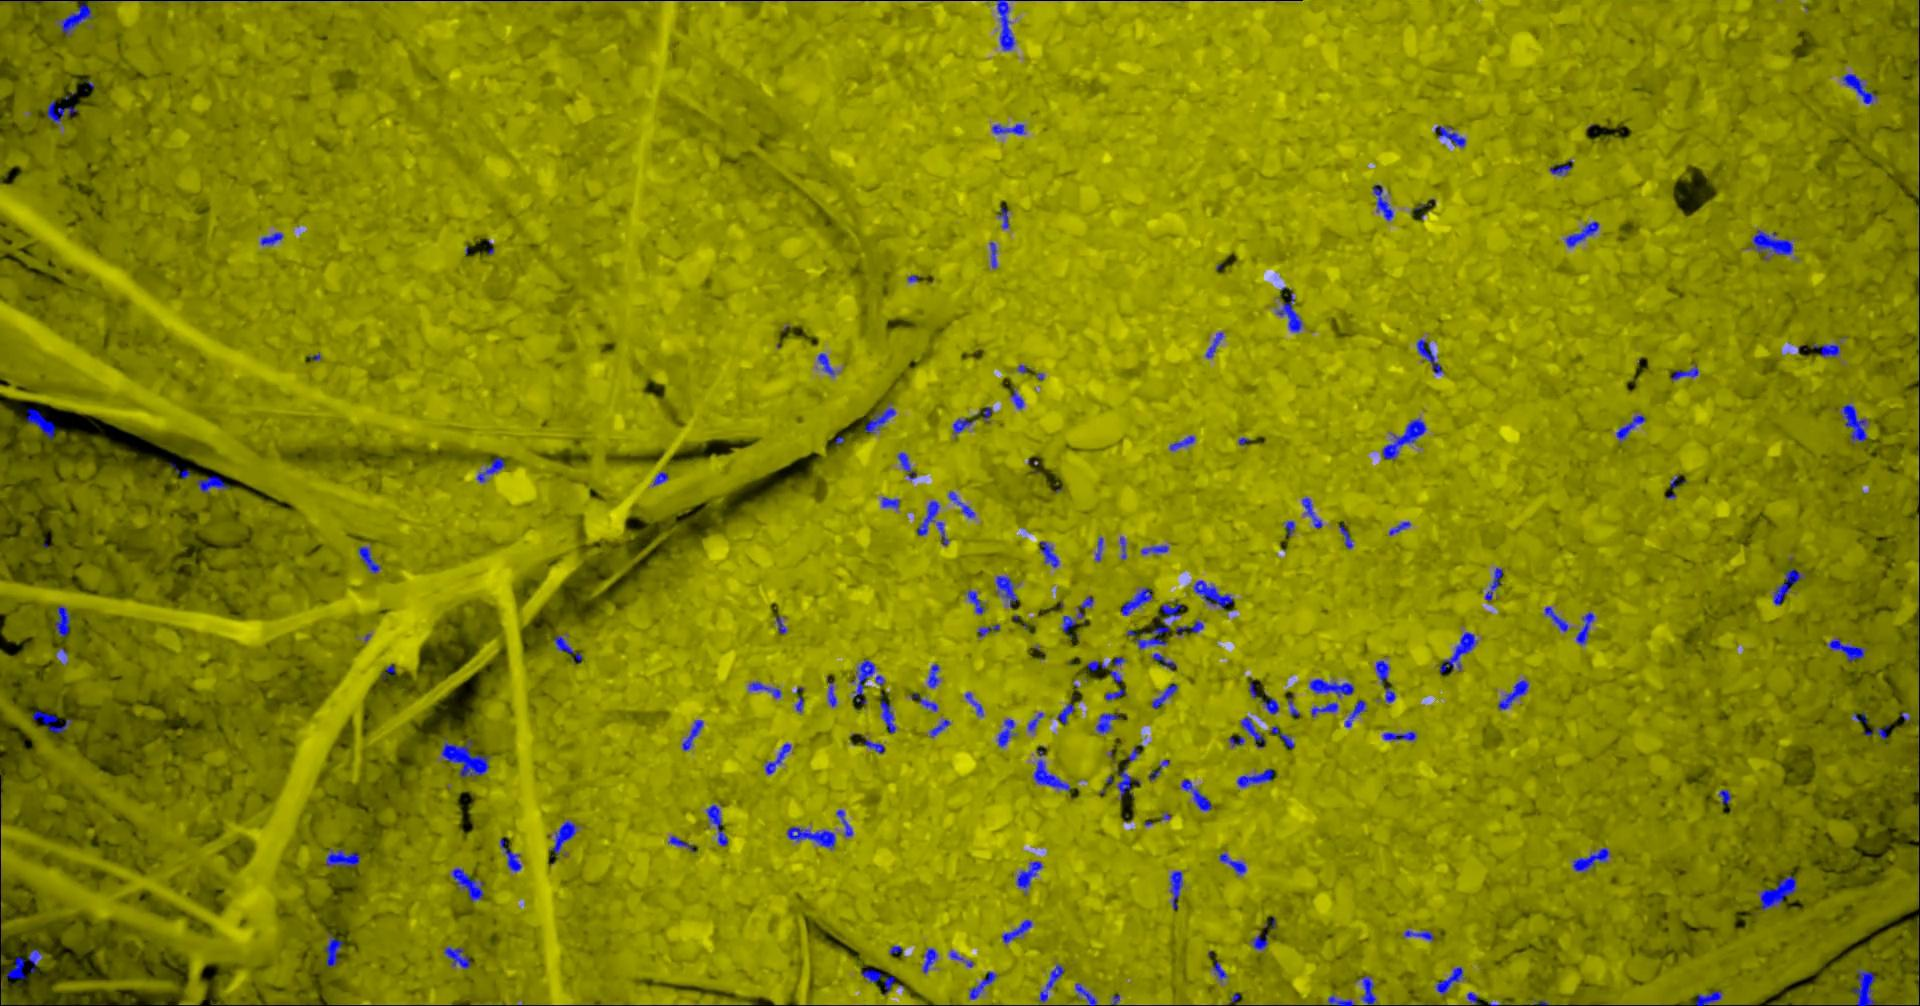ant: (442, 737, 491, 777), (1383, 418, 1429, 459), (1035, 746, 1072, 791), (60, 0, 105, 36), (1441, 631, 1479, 672), (918, 500, 951, 545), (855, 658, 886, 702), (1759, 875, 1798, 909), (1774, 568, 1807, 605), (1128, 621, 1171, 649), (8, 948, 44, 979), (1195, 580, 1234, 610), (1843, 72, 1878, 104), (1752, 229, 1794, 255), (789, 826, 837, 848), (1843, 404, 1870, 443), (453, 868, 485, 901), (27, 406, 57, 439), (1277, 292, 1303, 332), (1040, 963, 1065, 1002), (1182, 779, 1213, 810), (1827, 638, 1867, 662), (1418, 338, 1445, 373), (998, 0, 1017, 50), (1575, 847, 1611, 873), (1498, 680, 1530, 709), (552, 821, 580, 854), (1853, 967, 1877, 1005), (707, 804, 729, 846), (1123, 587, 1154, 615), (1566, 221, 1600, 246), (1017, 861, 1045, 892), (33, 710, 72, 732), (1310, 678, 1355, 697), (555, 635, 584, 663), (1436, 967, 1465, 995), (866, 406, 897, 433), (1617, 414, 1647, 441), (766, 743, 792, 774), (1107, 766, 1133, 798), (863, 969, 897, 993), (970, 970, 998, 998), (1242, 716, 1267, 747), (1374, 184, 1396, 220), (997, 575, 1020, 607), (502, 838, 523, 871), (950, 490, 977, 517), (48, 100, 77, 124), (1238, 768, 1275, 788), (1436, 124, 1467, 147), (477, 457, 505, 481), (1003, 920, 1032, 942), (683, 719, 705, 749), (1304, 497, 1324, 528), (1153, 682, 1178, 708), (444, 945, 472, 968), (1577, 611, 1596, 644), (1545, 606, 1570, 631), (1486, 567, 1503, 601), (326, 932, 344, 967), (1346, 699, 1368, 727), (881, 694, 897, 733), (197, 475, 230, 493), (749, 681, 782, 699), (328, 848, 361, 866), (359, 546, 381, 573), (1220, 852, 1247, 874), (998, 718, 1017, 747), (1272, 725, 1297, 748), (56, 605, 72, 636), (1076, 982, 1098, 1005), (1097, 711, 1121, 733), (1041, 541, 1062, 567), (912, 692, 938, 711), (1171, 870, 1183, 909), (966, 691, 985, 716), (1208, 332, 1225, 358), (899, 451, 917, 478), (860, 735, 886, 753), (837, 809, 855, 836), (1672, 365, 1700, 381), (1059, 697, 1076, 724), (669, 835, 696, 851), (968, 589, 985, 614), (1154, 652, 1178, 669), (1177, 620, 1205, 635), (1697, 989, 1724, 1005), (1150, 760, 1171, 780), (1363, 976, 1377, 1005), (954, 417, 977, 434), (1170, 434, 1196, 450), (1550, 159, 1575, 175), (819, 352, 836, 376), (1078, 594, 1095, 619), (951, 950, 975, 967), (1312, 702, 1340, 716), (1162, 603, 1183, 621), (931, 719, 952, 737), (924, 948, 938, 973), (1384, 730, 1418, 741), (1404, 929, 1435, 940), (1377, 661, 1390, 685), (993, 123, 1026, 133), (1812, 344, 1841, 356), (1340, 525, 1354, 547), (1390, 521, 1412, 535), (1029, 713, 1045, 730), (262, 232, 284, 245), (930, 663, 941, 688), (979, 624, 1001, 636), (1263, 697, 1280, 714), (1330, 995, 1356, 1005), (1214, 962, 1228, 981), (1012, 387, 1025, 408), (1142, 544, 1170, 553), (1063, 615, 1077, 633), (1289, 697, 1302, 716), (1106, 688, 1126, 700), (1253, 934, 1269, 949), (654, 471, 670, 485), (829, 681, 838, 706), (883, 497, 902, 508), (1719, 789, 1733, 804), (1001, 207, 1011, 227), (1088, 661, 1109, 671), (990, 241, 998, 268), (1876, 725, 1890, 739), (777, 616, 789, 633), (1096, 537, 1103, 561), (1286, 520, 1297, 536), (1387, 686, 1397, 702), (1230, 735, 1246, 746), (1121, 536, 1128, 559), (1919, 733, 1920, 791), (1919, 619, 1920, 673)
